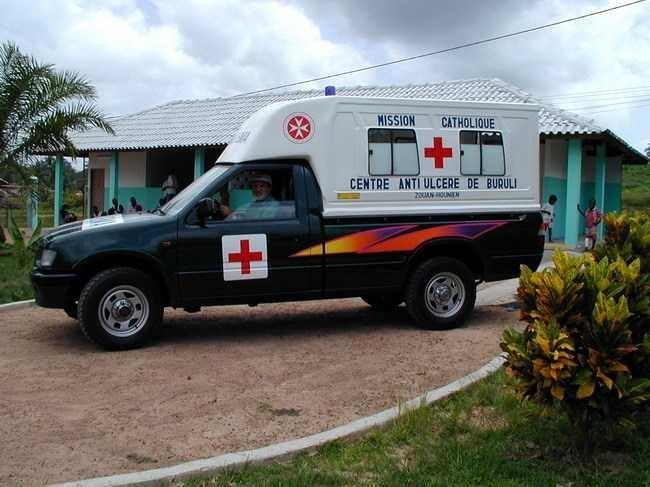car: (29, 86, 547, 349)
